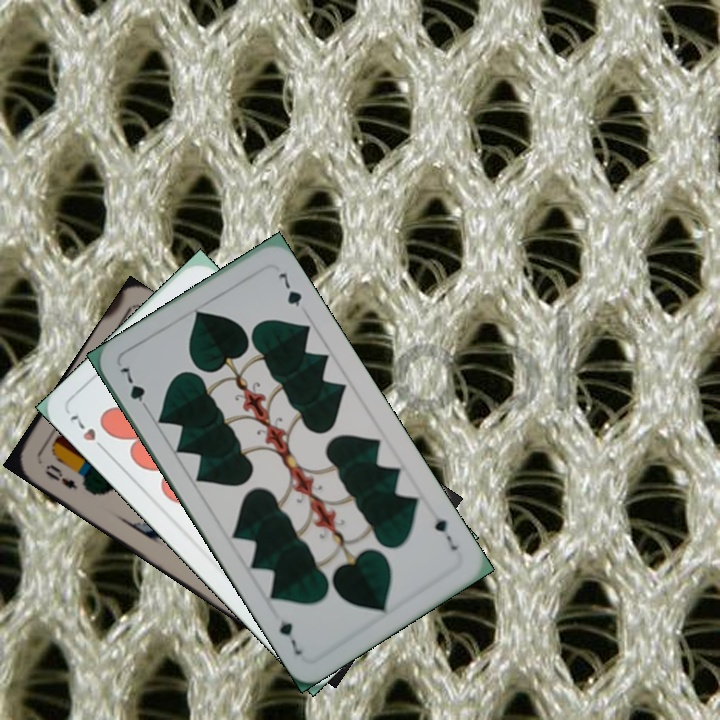EO: (41, 460, 80, 492)
G7: (116, 362, 153, 415), (429, 507, 460, 554)
H7: (65, 411, 111, 456)
